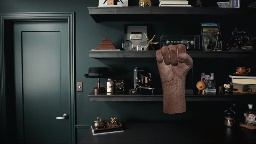Pugno: (152, 42, 195, 85)
